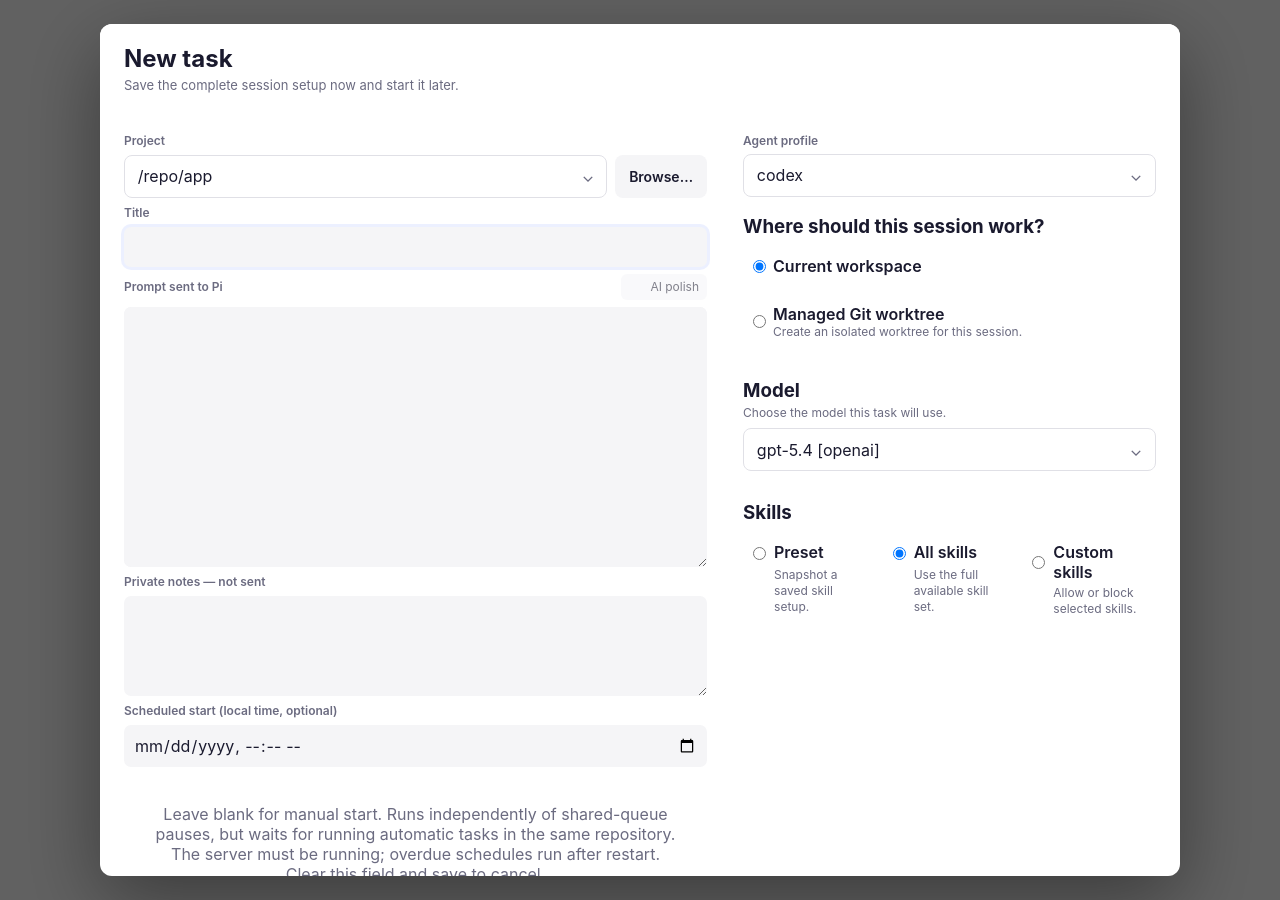
Test: TaskEditorDialog › polishes raw prompt into a title and executable prompt
Type "raw idea about task queue" into the text box with id "task-prompt" at (416, 437), box [124,307,707,567]
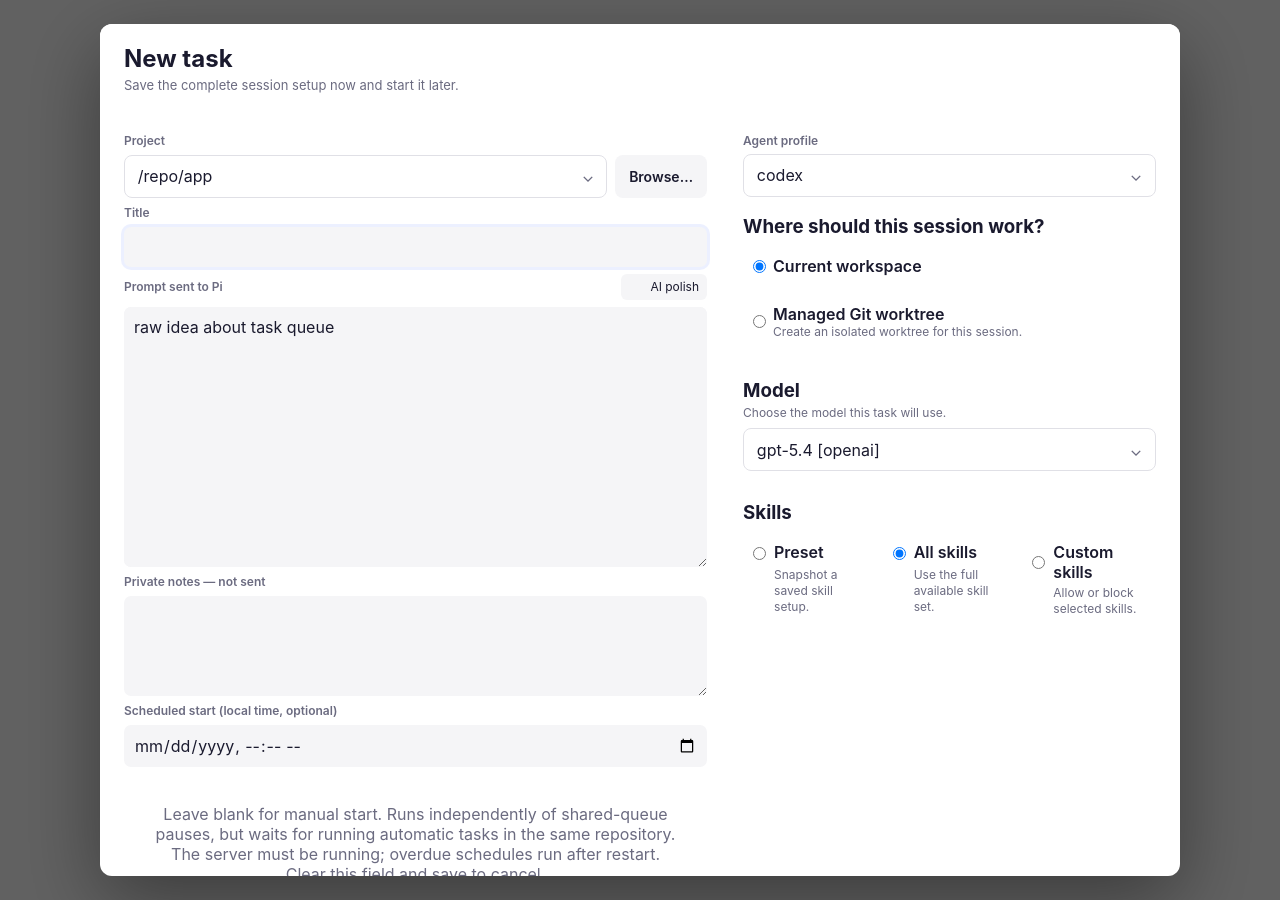
Click the button with class "task-ai-polish" at (664, 287), box [621,274,707,300]
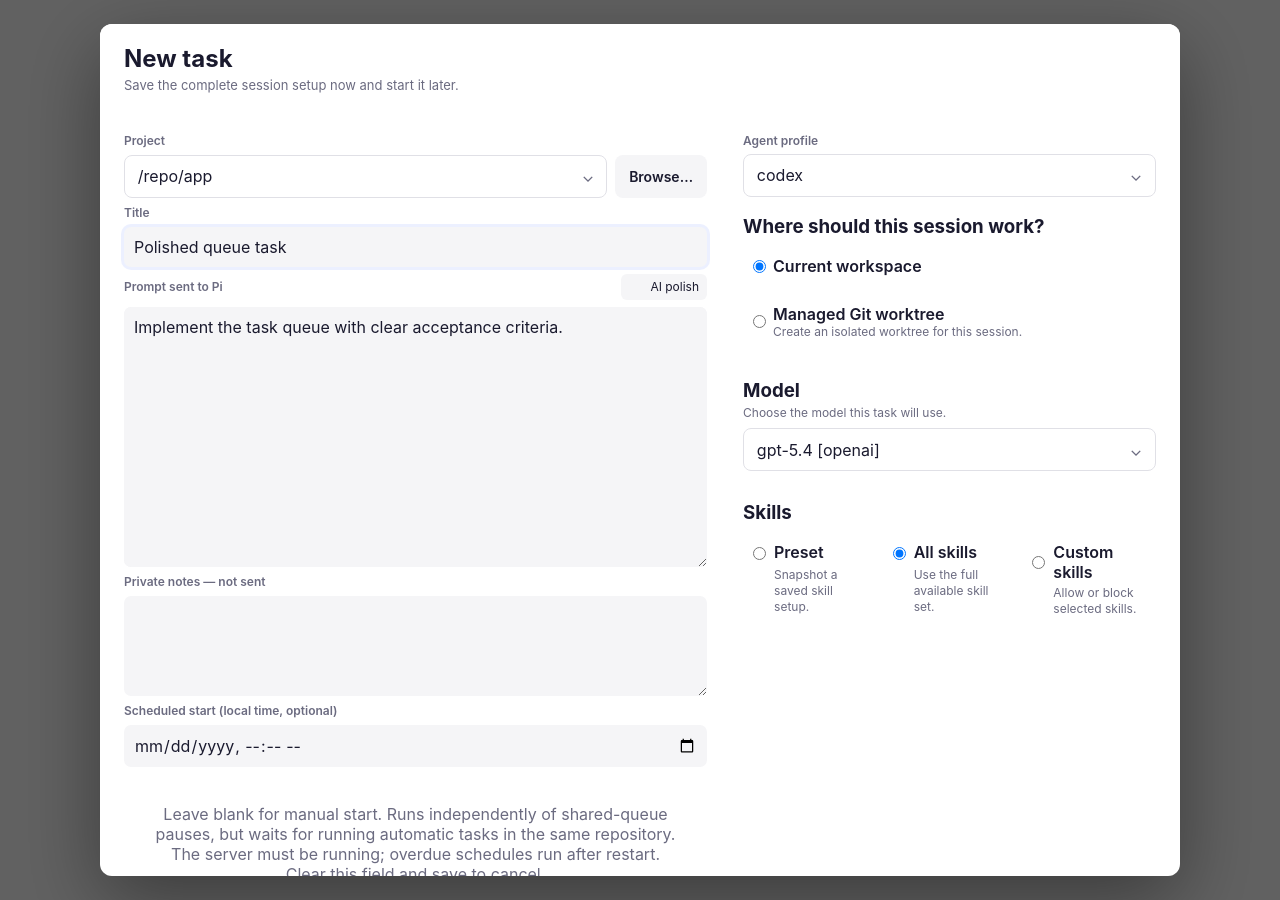
Now the field with id "task-title" holds "Polished queue task", box [124,227,707,267]
Now the text box with id "task-prompt" holds "Implement the task queue with clear acceptance criteria.", box [124,307,707,567]
